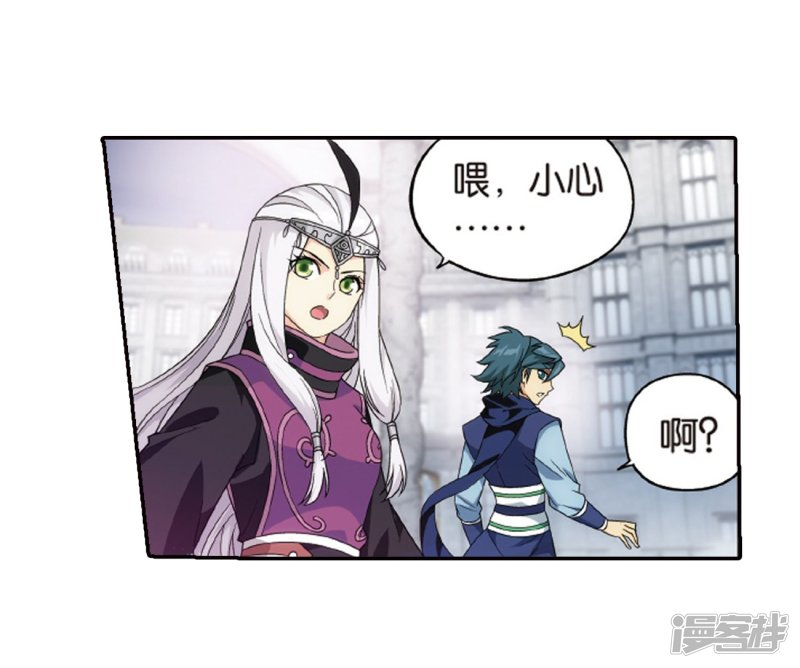boxEllipse: (100, 136, 742, 558), (410, 138, 634, 282), (614, 370, 740, 492)
